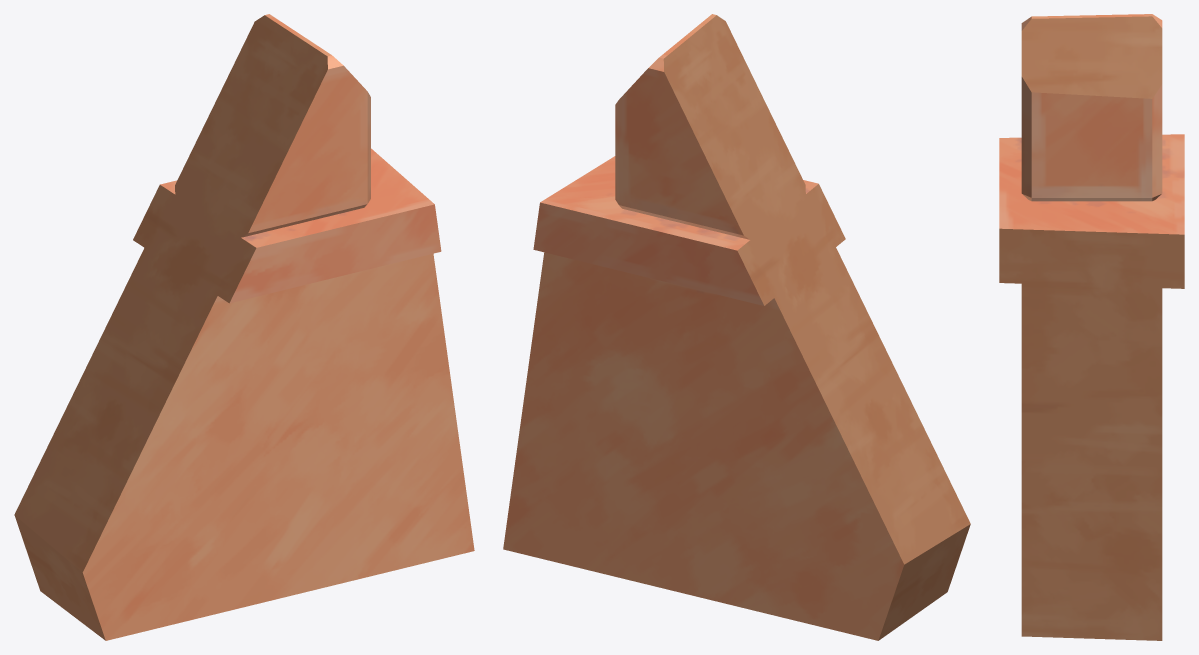
File: parapet_crenel_s01.fbx
The picture shows the model from 3 angles, left to right: view 1: azimuth 30°, elevation 25°; view 2: azimuth 150°, elevation 25°; view 3: azimuth 270°, elevation 25°; orthographic projection. The views are drawn at different scales.
Parts seen in each view (by area): view 1: parapet_crenel_s01; view 2: parapet_crenel_s01; view 3: parapet_crenel_s01.
Boxes of the visible parts, bbox=[...] form: parapet_crenel_s01: bbox=[14, 14, 474, 640]; parapet_crenel_s01: bbox=[503, 14, 970, 640]; parapet_crenel_s01: bbox=[999, 14, 1184, 640].
Bounding box in the file's own units: 3.44 × 4.3 × 1.32.
